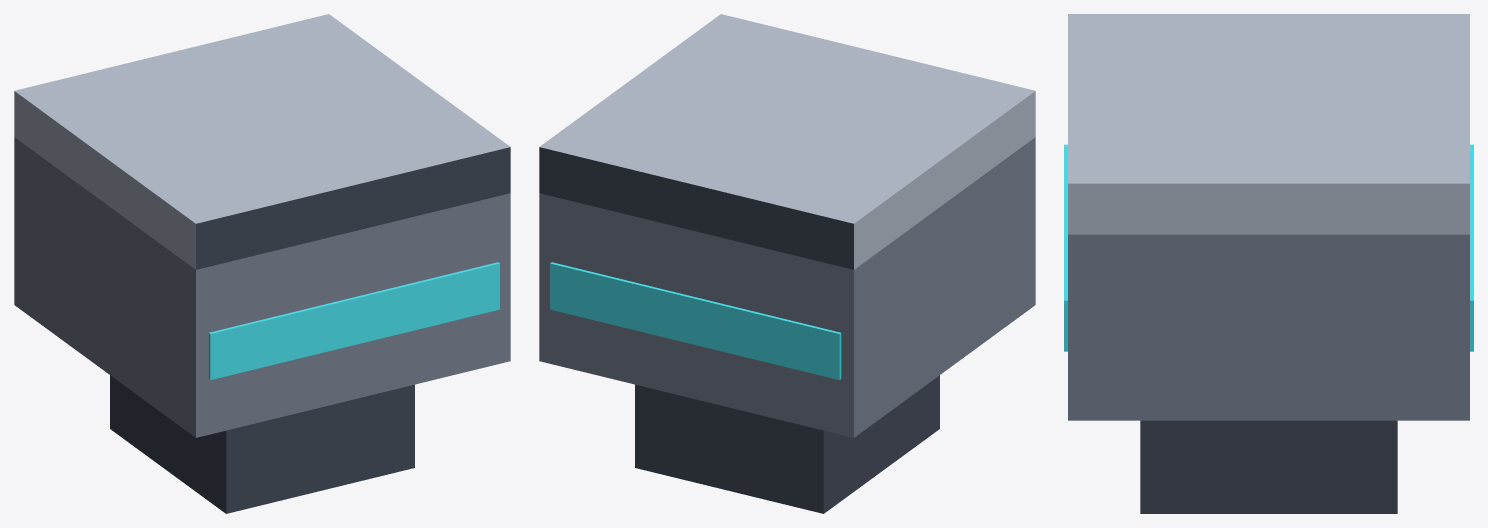
The model's file is gimmick_platform_move.obj.
3 views of the same model, side by side, from view 1: azimuth 30°, elevation 25°; view 2: azimuth 150°, elevation 25°; view 3: azimuth 270°, elevation 25° (orthographic). The views are drawn at different scales.
Parts seen in each view (by area): view 1: gimmick_platform_move; view 2: gimmick_platform_move; view 3: gimmick_platform_move.
Part boxes in pixels (x1,y1,x2,y2): gimmick_platform_move: (14,14,510,513); gimmick_platform_move: (539,14,1035,513); gimmick_platform_move: (1064,14,1473,513).
Size of the model in its own units: 1 by 1.02 by 1.02.
